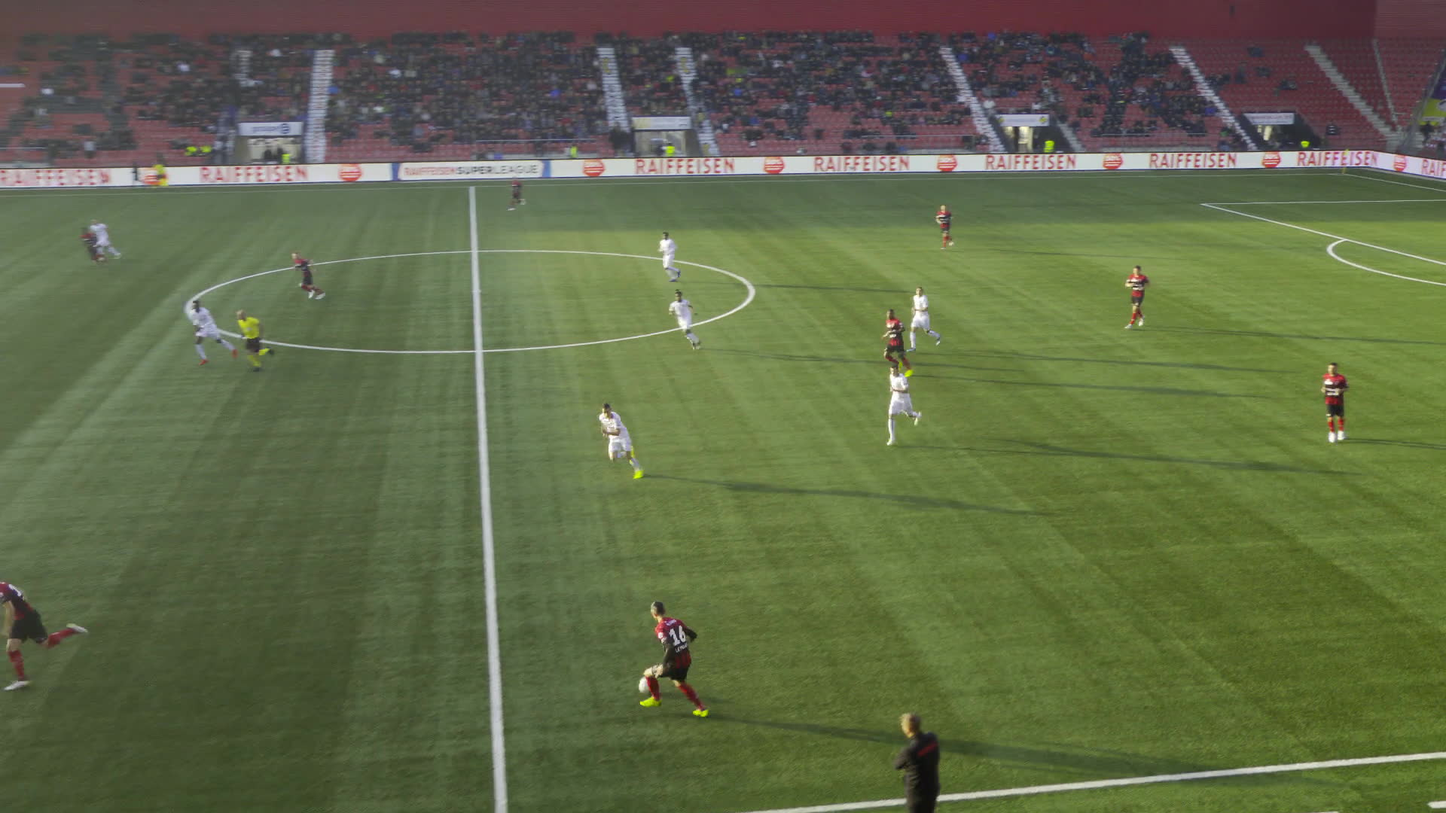ball: (638, 676, 651, 693)
player: (0, 579, 88, 690), (638, 598, 708, 717), (598, 401, 645, 479), (189, 299, 237, 366), (883, 364, 921, 445), (877, 307, 914, 378), (1319, 361, 1350, 443), (906, 286, 942, 352), (668, 288, 701, 350), (1124, 263, 1152, 328), (290, 250, 325, 300), (89, 218, 121, 259), (657, 230, 682, 282), (77, 225, 108, 266), (934, 202, 953, 250), (507, 175, 526, 211)
referee: (235, 309, 275, 372), (151, 157, 169, 190)
